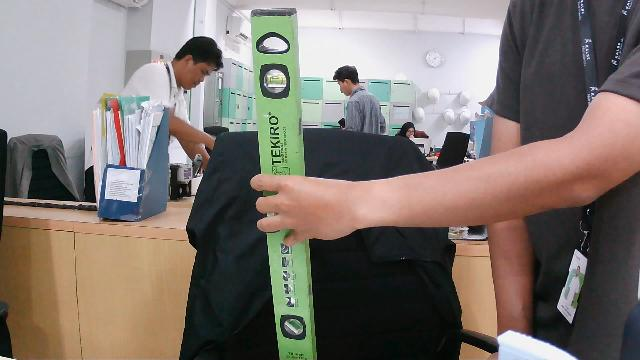water_pass: (235, 1, 345, 360)
